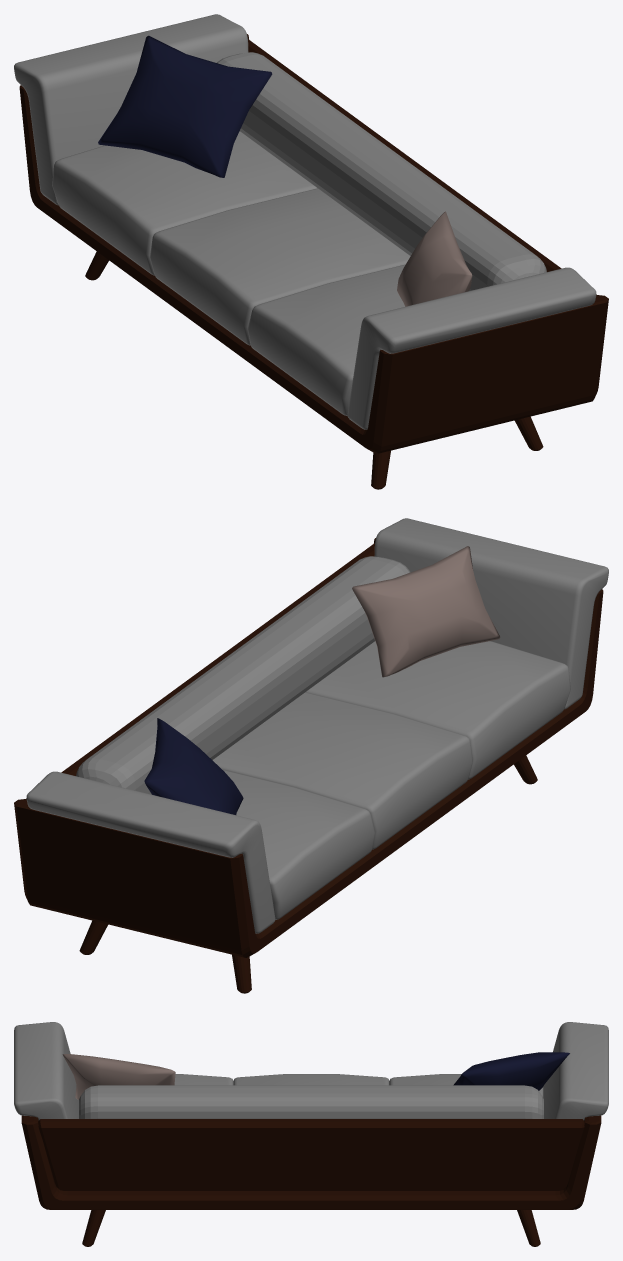
File: h-005_sofa_02_F.FBX
3 views of the same model, one above another, from view 1: azimuth 30°, elevation 25°; view 2: azimuth 150°, elevation 25°; view 3: azimuth 270°, elevation 25° (orthographic). The views are drawn at different scales.
Parts seen in each view (by area): view 1: h-005_sofa_02; view 2: h-005_sofa_02; view 3: h-005_sofa_02.
Part boxes in pixels (<box>): h-005_sofa_02: <box>14,14,608,489</box>; h-005_sofa_02: <box>14,518,608,993</box>; h-005_sofa_02: <box>14,1022,608,1246</box>.
Size of the model in its own units: 12.24 by 10.57 by 35.14.
